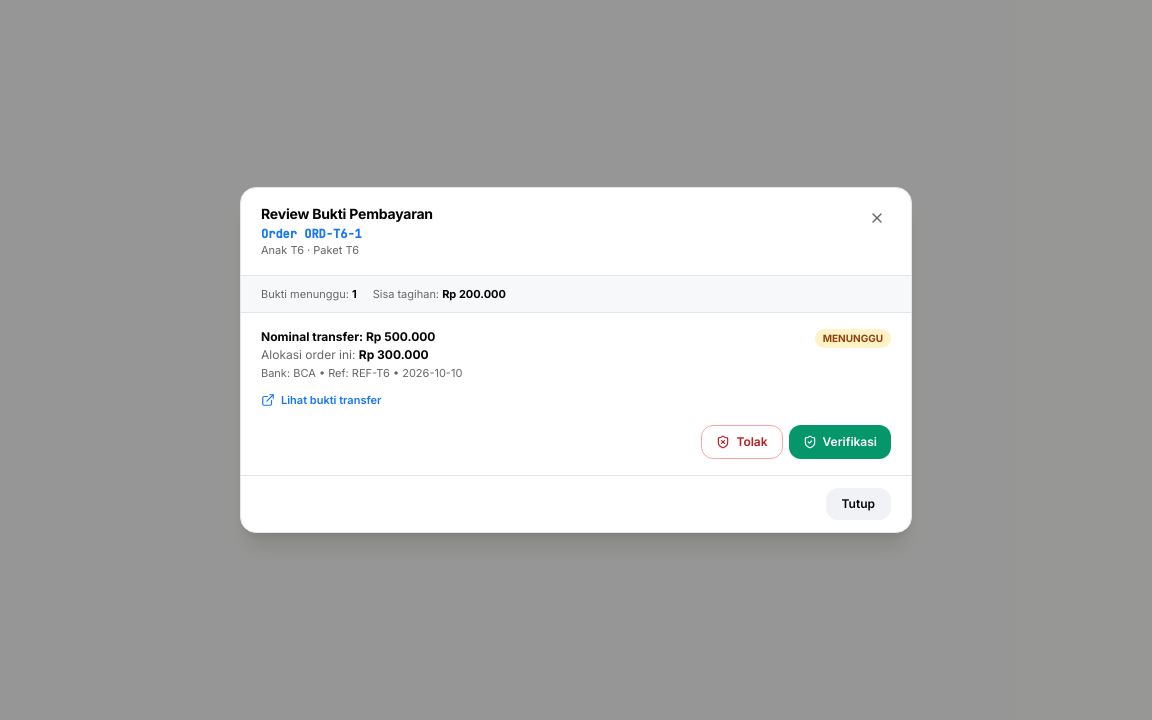
PaymentReviewModal (T6: review bukti pembayaran ortu) › menonaktifkan tombol Kirim Penolakan sampai alasan diisi
Click the button "Tolak". click: click(742, 442)
box: [701,425,783,459]
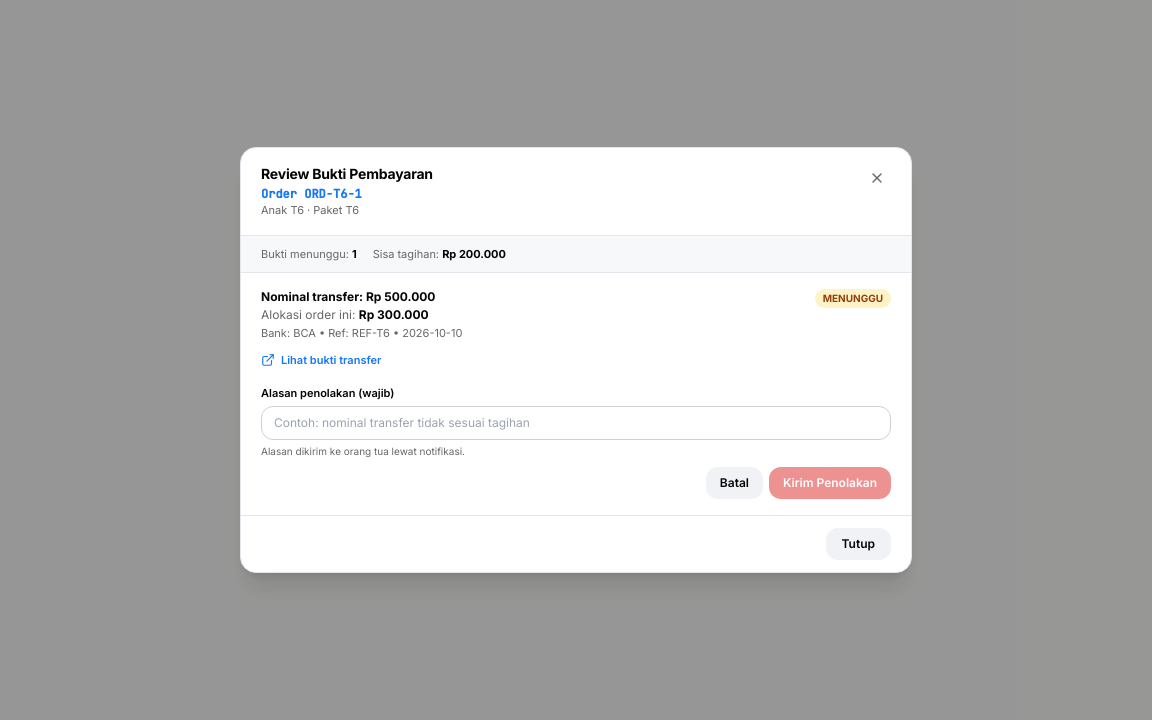
expect the button "Kirim Penolakan" is disabled: met, box [769,467,891,499]
Type "Nominal tidak sesuai tagihan" into the field labelled "Alasan penolakan (wajib)". click: (576, 423)
box: [261,406,891,440]
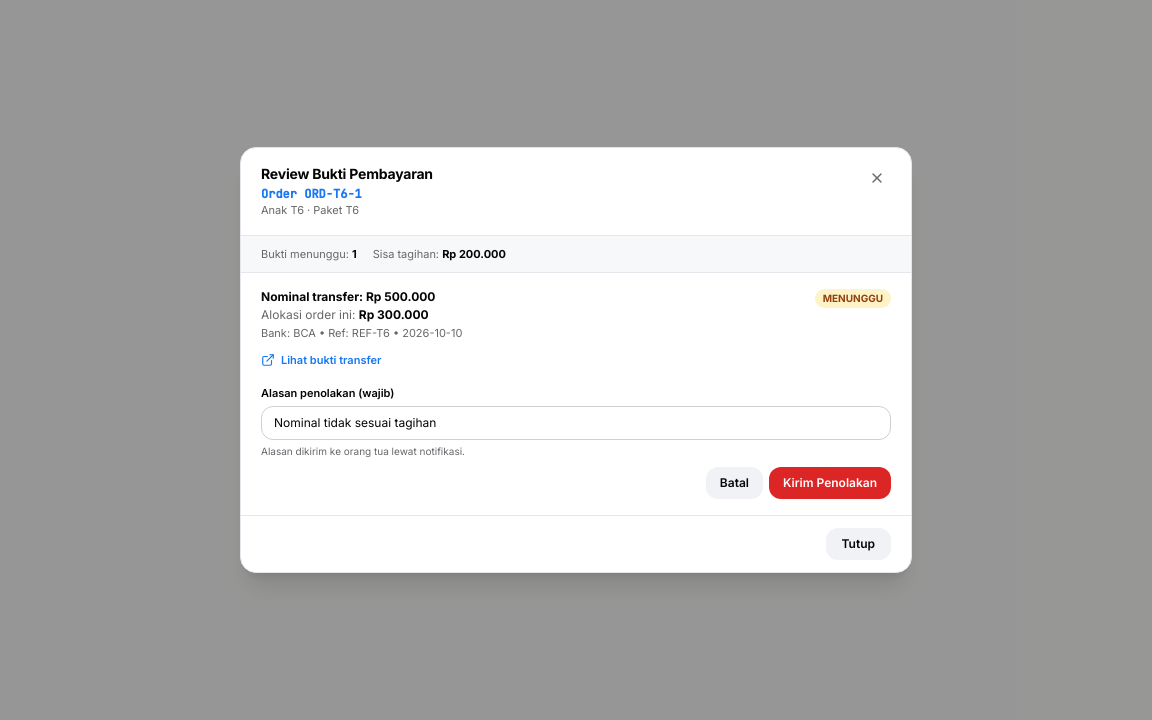
expect the button "Kirim Penolakan" is enabled: met
Click the button "Kirim Penolakan". click: click(830, 483)
box: [769,467,891,499]
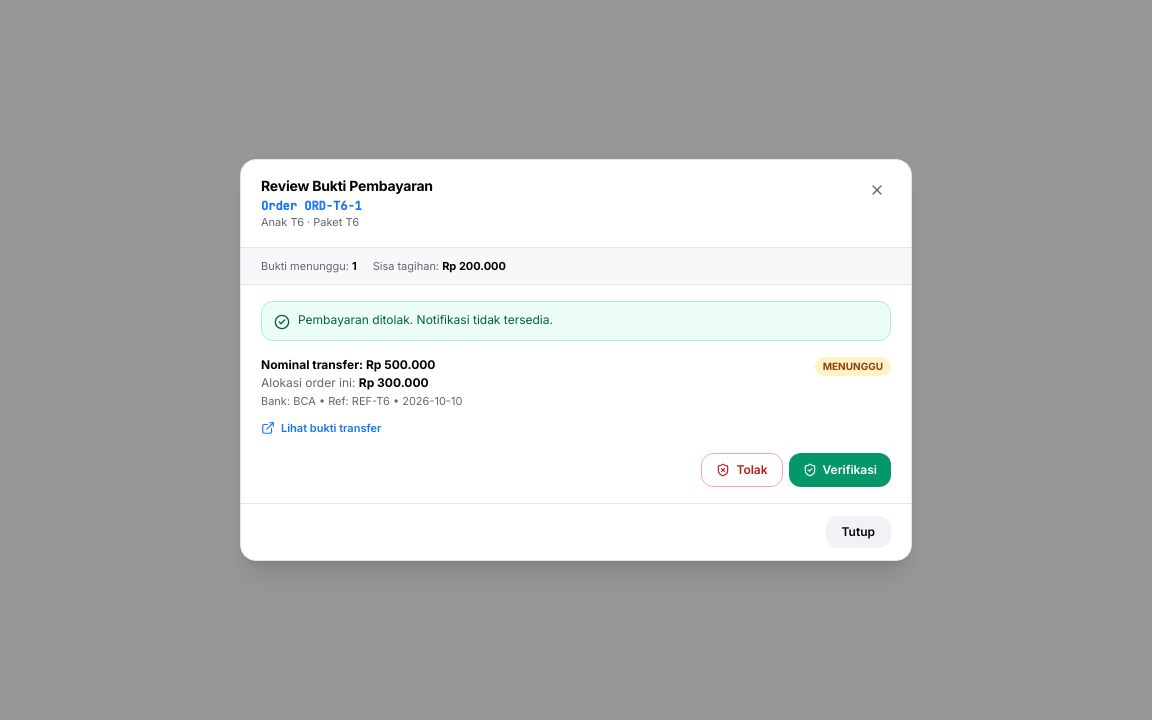
expect the message "Pembayaran ditolak. Notifikasi tidak tersedia." is shown: met, box [261,301,891,341]
expect the message shows "Pembayaran ditolak.": met, box [298,312,553,327]
